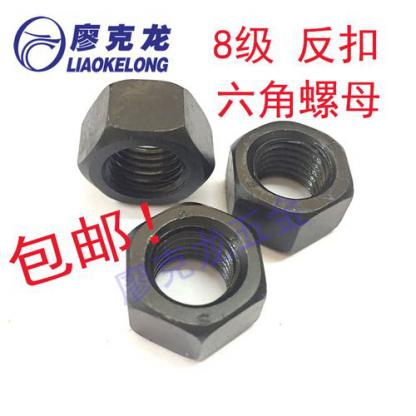FOD: (121, 202, 270, 360), (73, 77, 221, 203), (224, 116, 353, 257)
